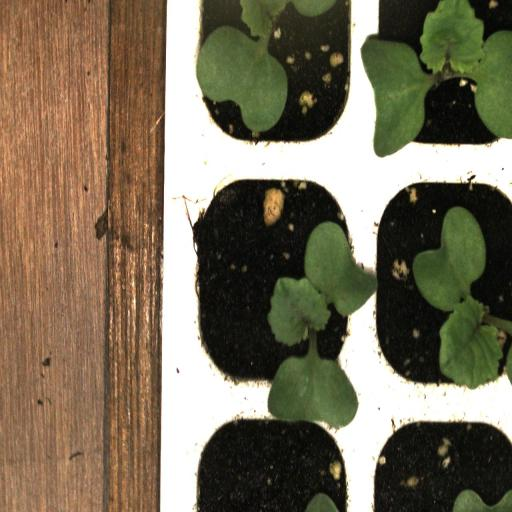seedling: (184, 164, 362, 398), (363, 163, 512, 399), (362, 1, 512, 171)
